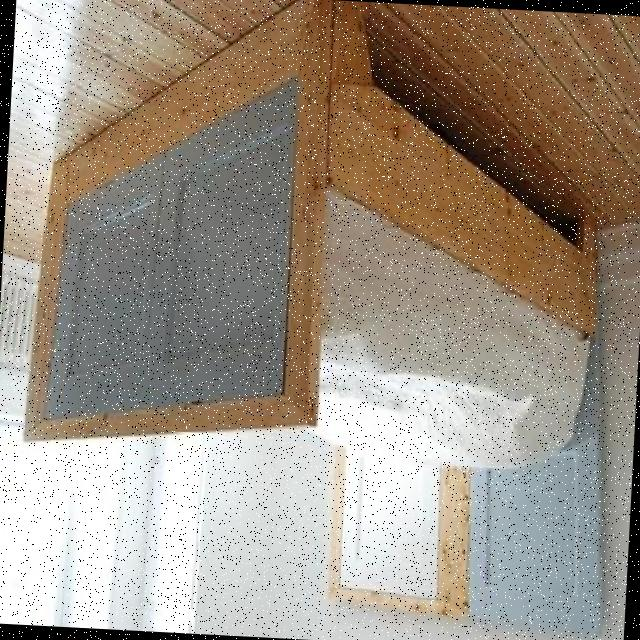Bed: (15, 0, 637, 640)
